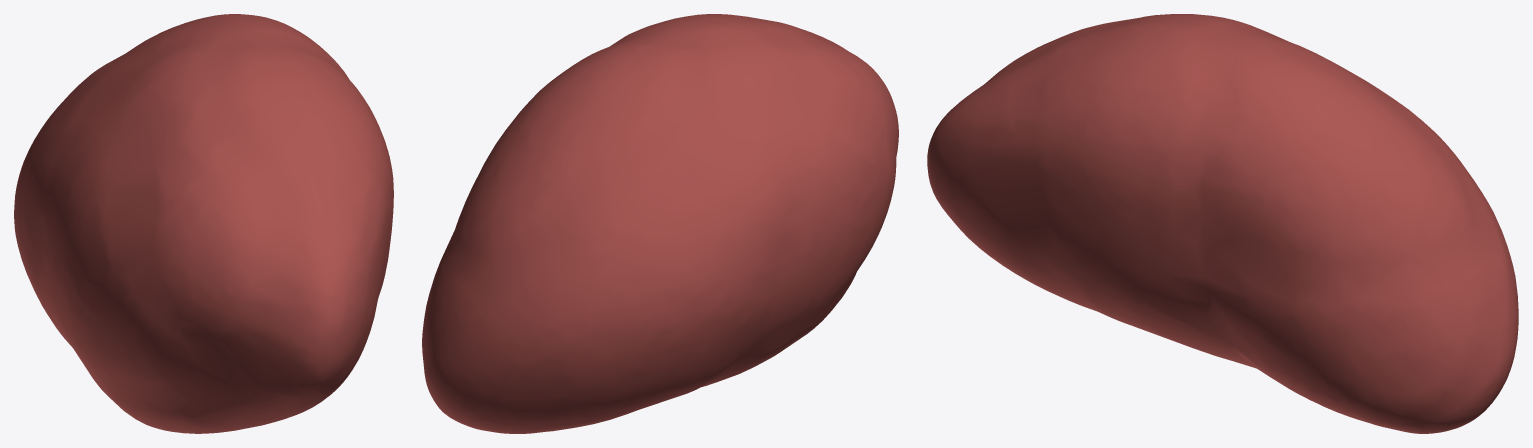
File: FMA258716.glb
3 renders of one model, left to right at view 1: azimuth 30°, elevation 25°; view 2: azimuth 150°, elevation 25°; view 3: azimuth 270°, elevation 25°, orthographic. The views are drawn at different scales.
Visible parts, largest first — view 1: FMA258716; view 2: FMA258716; view 3: FMA258716.
Part boxes in pixels (<box>): FMA258716: <box>14,14,393,433</box>; FMA258716: <box>422,14,898,433</box>; FMA258716: <box>927,14,1518,433</box>.
Bounding box in the file's own units: 0.0222 × 0.0224 × 0.0345.
